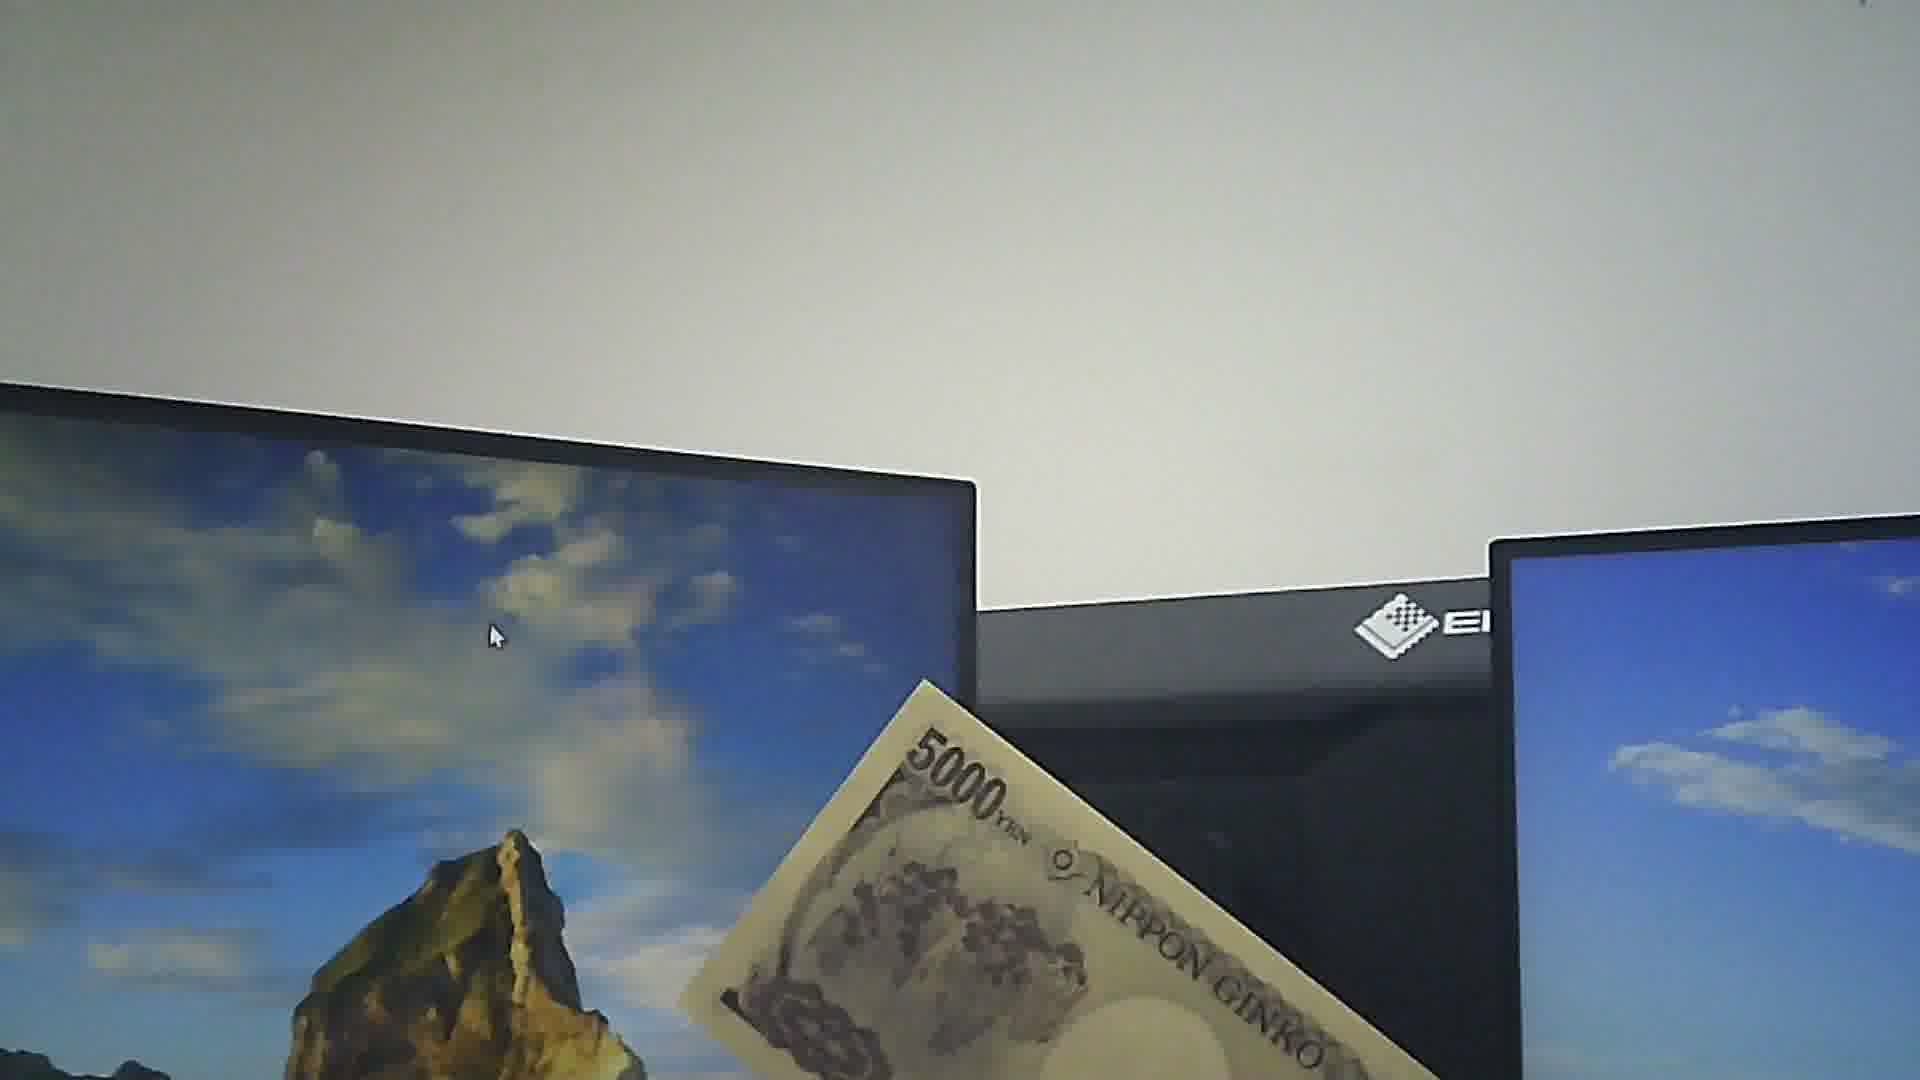5,000 Yen: (665, 680, 1387, 1079)
